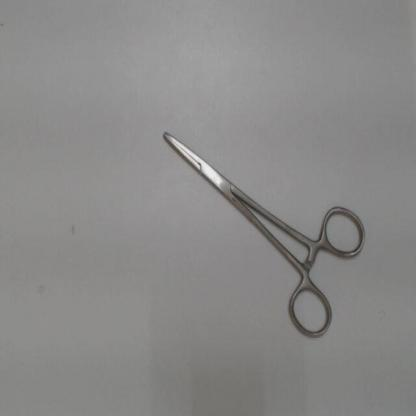Mayo Needle Holder: (146, 120, 375, 346)
